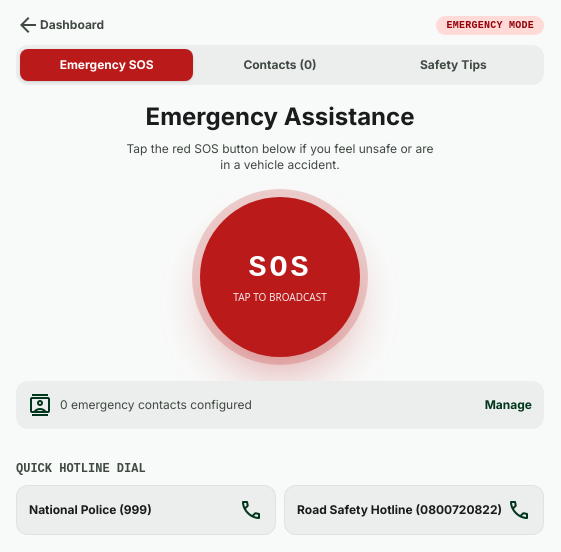
DATA-002: Emergency SOS Contacts Real Data & Zero Hardcoded Fake Profiles › renders a genuine empty state when the user has no saved emergency contacts and contains NO fake contacts
Note: Click on the Contacts tab
Click the button "Contacts (0)": (280,65) x1=193 y1=49 x2=367 y2=81
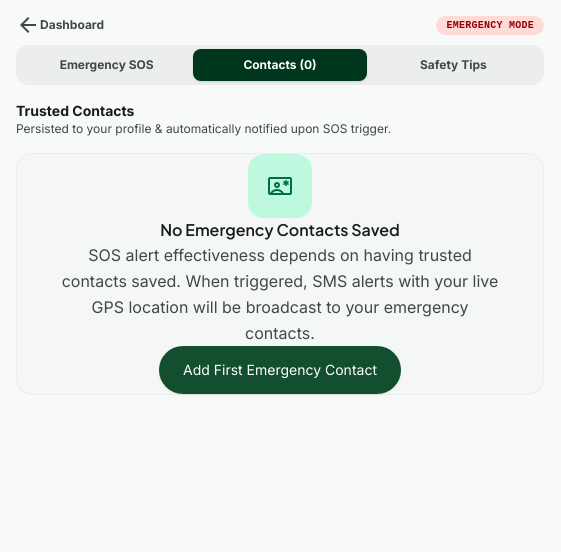
Now the heading "No Emergency Contacts Saved" is shown, box x1=160 y1=218 x2=400 y2=242
Now the text "SOS alert effectiveness depends on having trusted contacts saved" is shown, box x1=62 y1=245 x2=498 y2=343
Now the button "Add First Emergency Contact" is shown, box x1=159 y1=346 x2=401 y2=394
